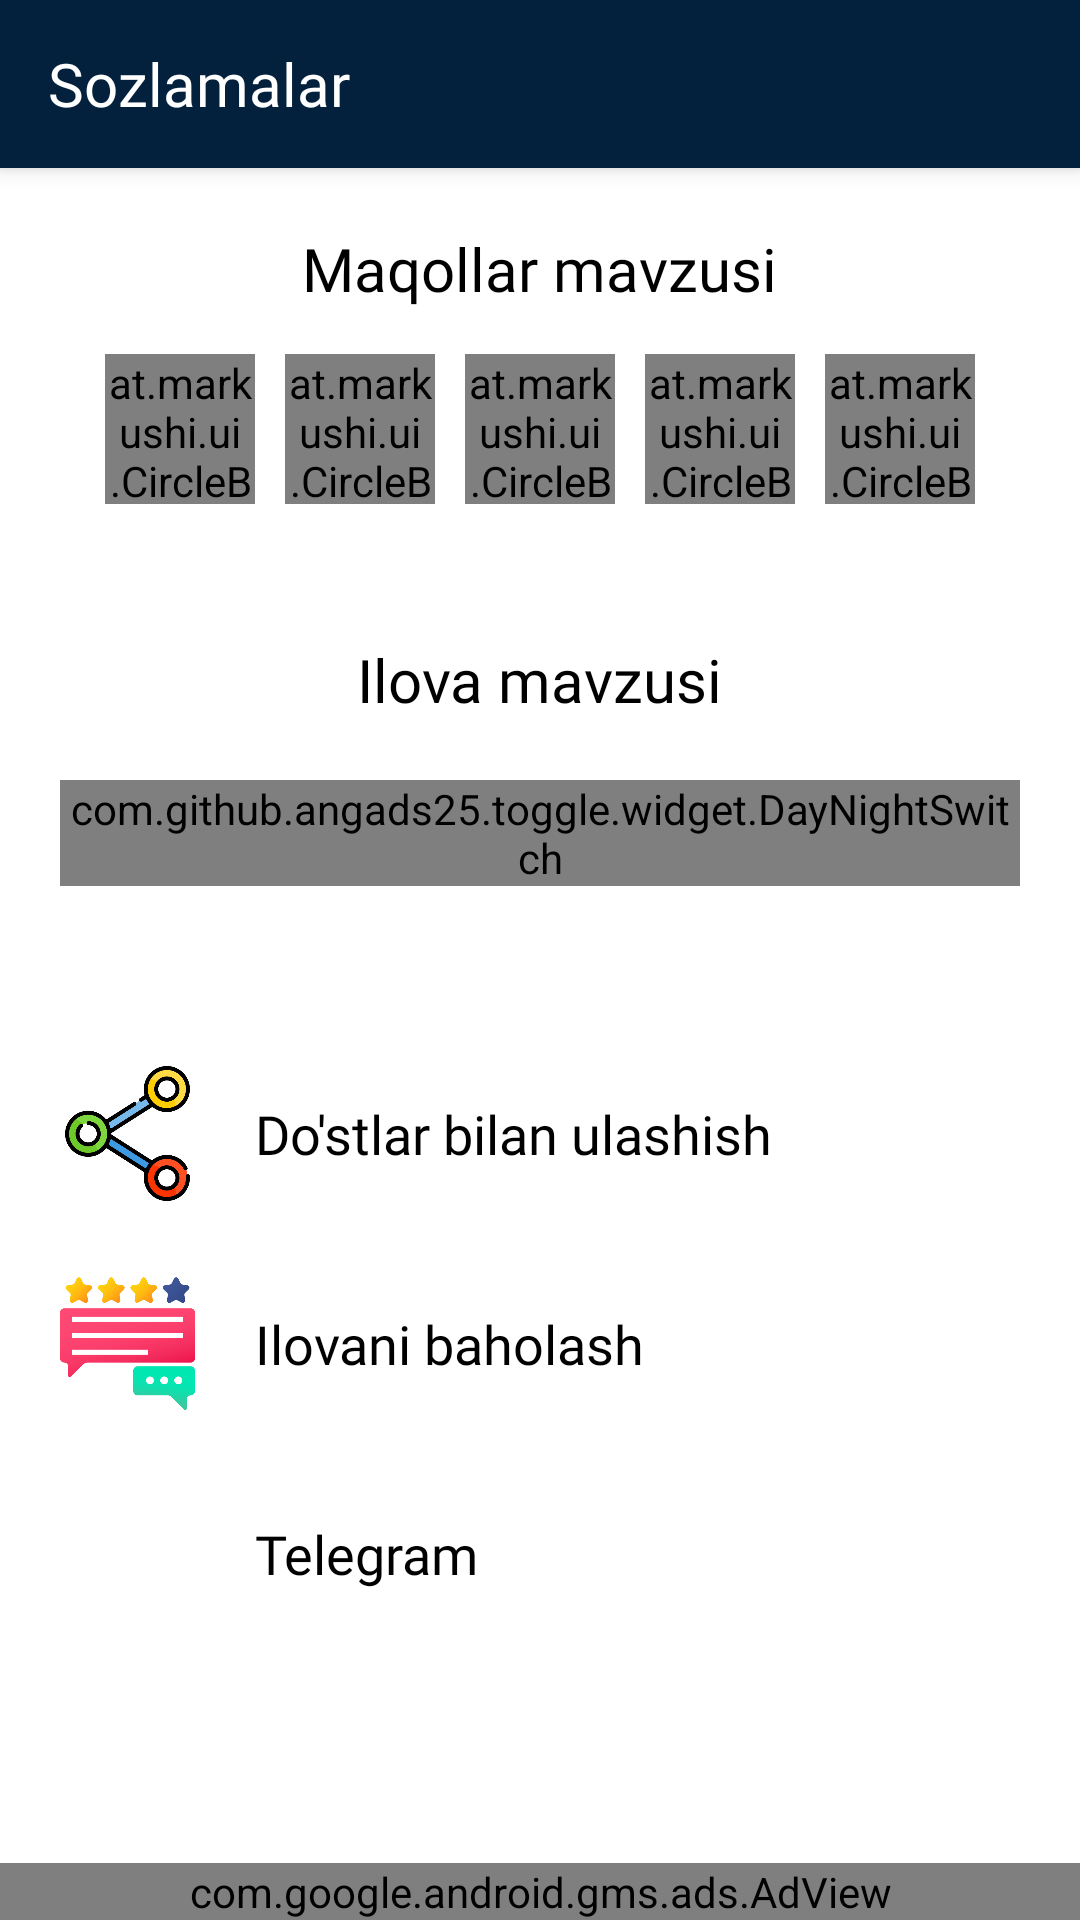

Locate icon controls on the screen. Image size 1080 × 1920, boxes as (x1, y1, x2, y2).
rate: (60, 1277, 195, 1410)
sharing: (65, 1066, 190, 1201)
